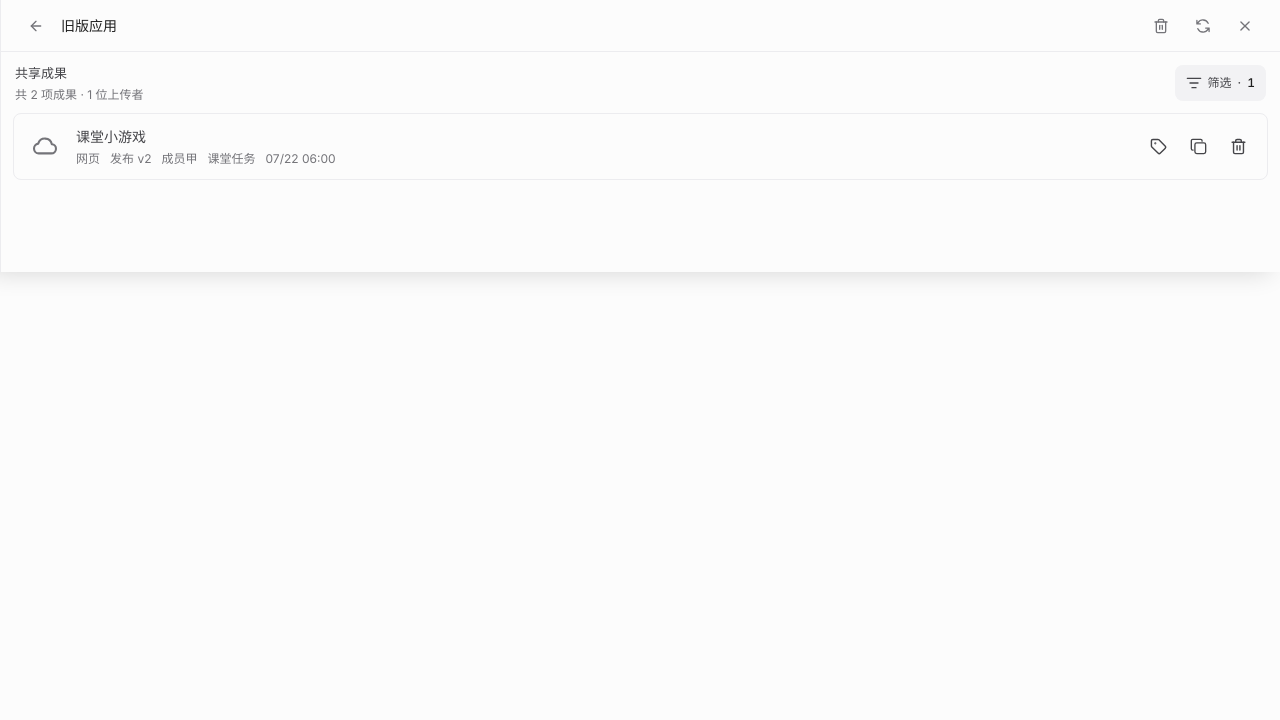
Scenario: CloudArtifactsPanel › filters results by the current task and can show all Agent results
The image size is (1280, 720).
Check: the text "其他任务成果" is not shown
Click the button with class "cloud-artifact-filter-trigger": (1220, 83) [1175,65,1266,101]
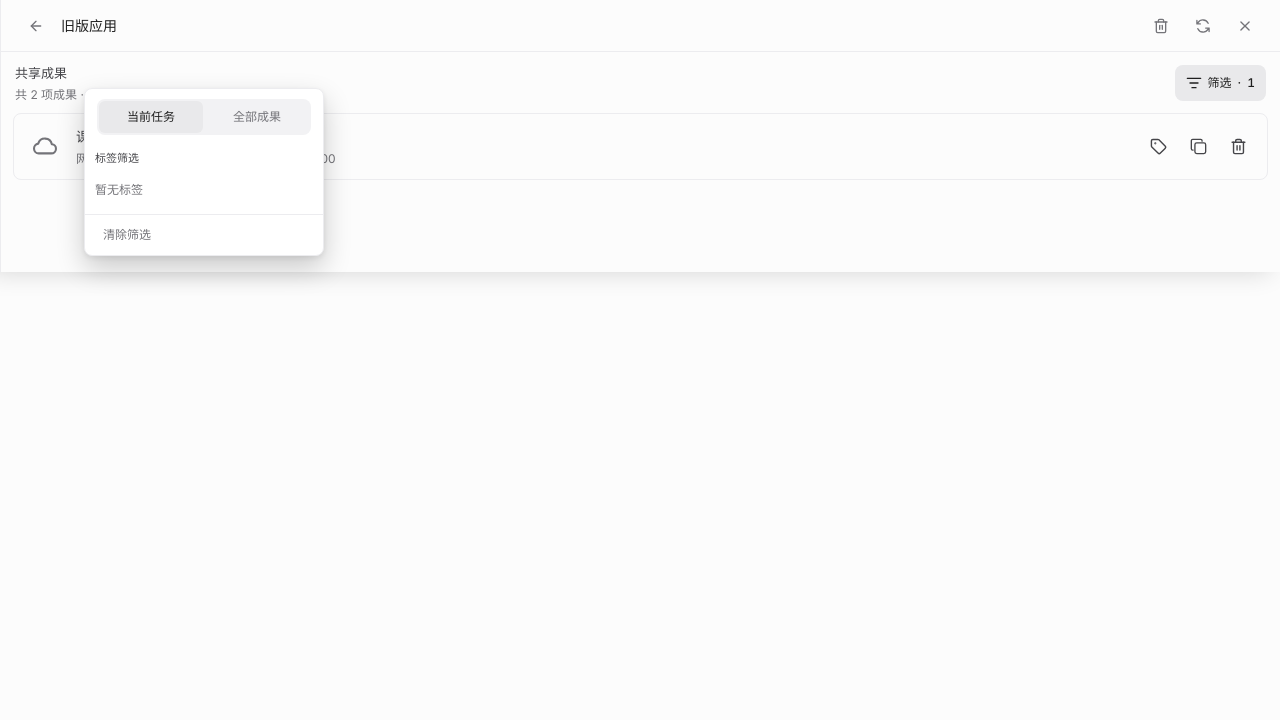
Click the radio button labelled "全部成果": (257, 116) [233,109,281,124]
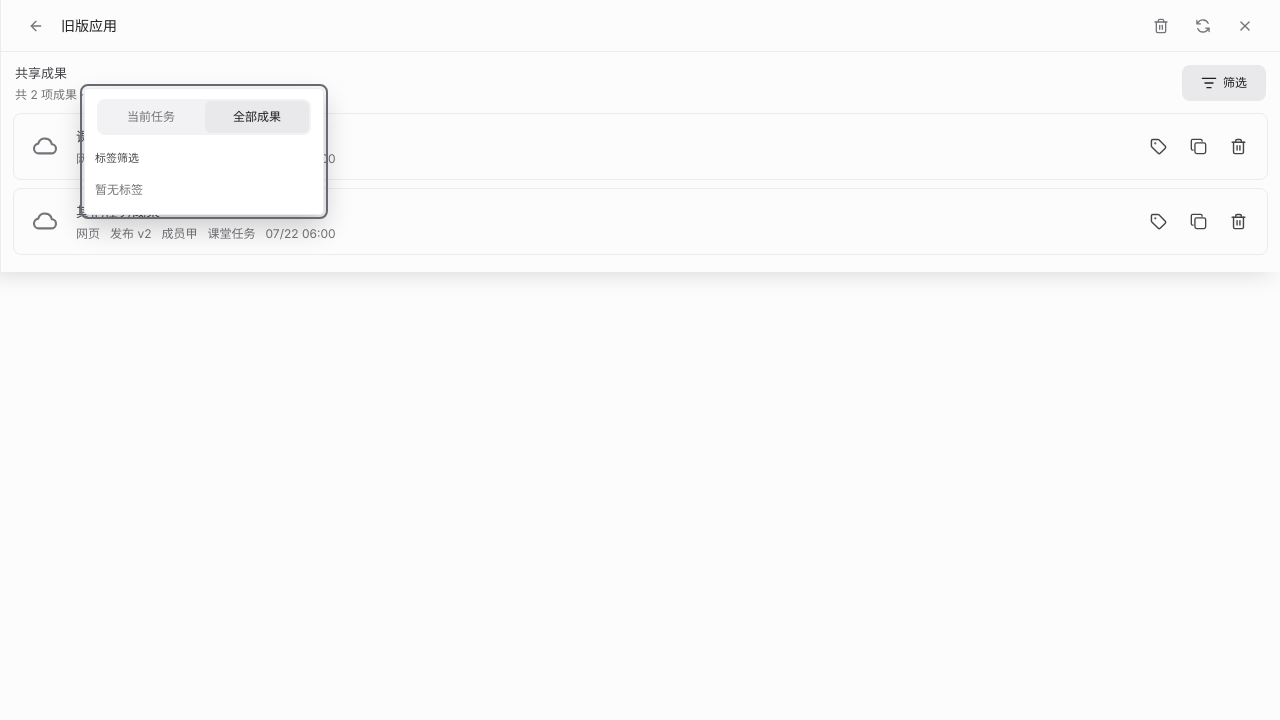
Check: the text "课堂小游戏" is shown, box [76,128,146,145]
Check: the text "其他任务成果" is shown, box [76,203,160,220]
